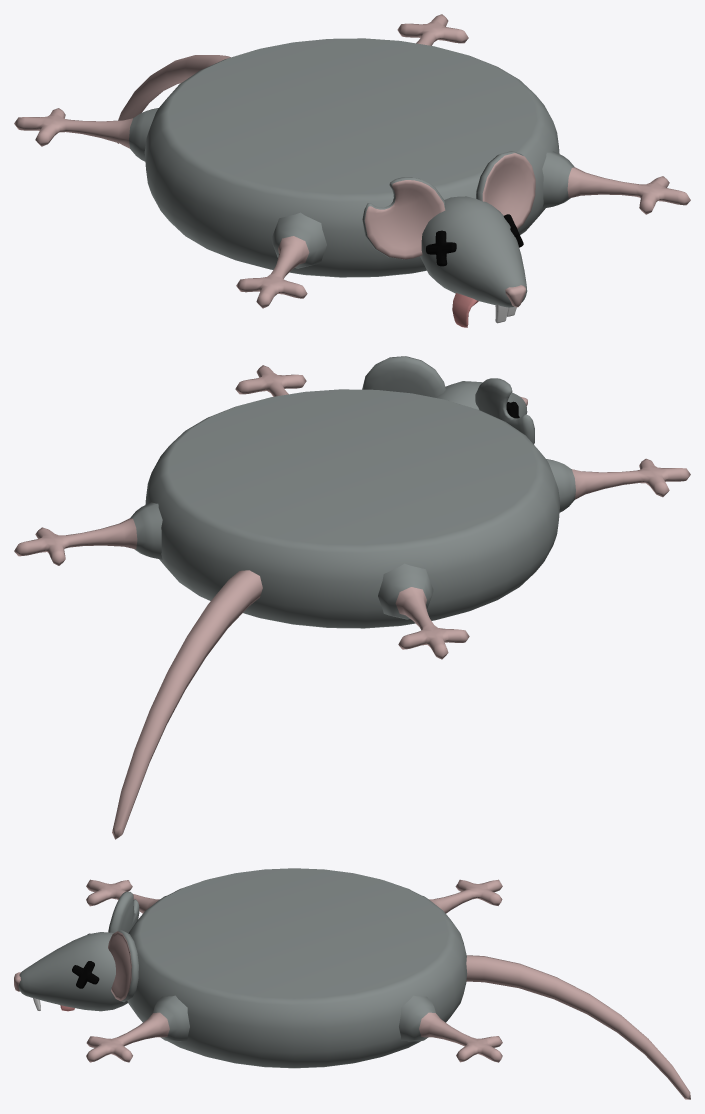
The model's file is SM_CakeBad_Rat.fbx.
The picture shows the model from 3 angles, top to bottom: view 1: azimuth 30°, elevation 25°; view 2: azimuth 150°, elevation 25°; view 3: azimuth 270°, elevation 25°; orthographic projection. The views are drawn at different scales.
Visible parts, largest first — view 1: SM_CakeBad_Rat; view 2: SM_CakeBad_Rat; view 3: SM_CakeBad_Rat.
Boxes of the visible parts, x1,y1,x2,y2 form: SM_CakeBad_Rat: (14, 14, 690, 327); SM_CakeBad_Rat: (14, 356, 690, 839); SM_CakeBad_Rat: (14, 868, 690, 1099).
Bounding box in the file's own units: 4.04 × 2 × 6.56.
